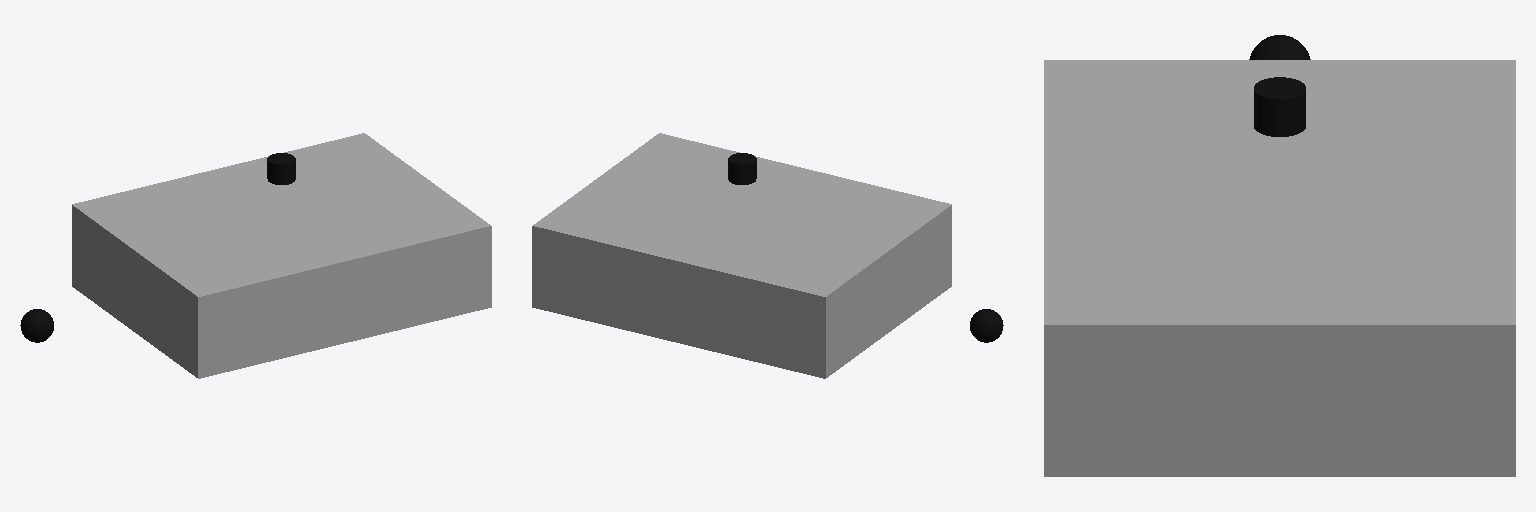
The robot description file, URDF, robot "diff_robot_with_platform":
<?xml version="1.0"?>
<robot name="diff_robot_with_platform" xmlns:xacro="http://www.ros.org/wiki/xacro">

  <!-- ===== Basic materials (optional) ===== -->
  <material name="Gray"><color rgba="0.7 0.7 0.7 1.0"/></material>
  <material name="Black"><color rgba="0.1 0.1 0.1 1.0"/></material>
  <material name="Blue"><color rgba="0.1 0.3 0.9 1.0"/></material>

  <!-- ===== Base link (chassis) ===== -->
  <link name="base_link">
    <inertial>
      <origin xyz="0 0 0" rpy="0 0 0"/>
      <mass value="15.0"/>
      <inertia ixx="0.8" ixy="0.0" ixz="0.0" iyy="0.8" iyz="0.0" izz="0.8"/>
    </inertial>
    <visual>
      <origin xyz="0 0 0.08" rpy="0 0 0"/>
      <geometry>
        <!-- Basic chassis box: LxWxH = 0.6 x 0.45 x 0.16 -->
        <box size="0.6 0.45 0.16"/>
      </geometry>
      <material name="Gray"/>
    </visual>
    <collision>
      <origin xyz="0 0 0.08" rpy="0 0 0"/>
      <geometry>
        <box size="0.6 0.45 0.16"/>
      </geometry>
    </collision>
  </link>

  <!-- ===== Wheels (differential) ===== -->
  <!-- Parameters -->
  <!-- Wheel separation: distance between wheel centers -->
  <!-- Wheel radius: radius of the wheel -->
  <!-- Adjust these if your chassis is different -->
  <!-- Using x-forward, y-left, z-up coordinate convention -->
  <!-- Wheels rotate about the Y-axis -->
  <!-- Left wheel -->
  <link name="left_wheel_link">
    <inertial>
      <origin xyz="0 0 0" rpy="0 0 0"/>
      <mass value="1.0"/>
      <inertia ixx="0.02" ixy="0.0" ixz="0.0" iyy="0.02" iyz="0.0" izz="0.02"/>
    </inertial>
    <visual>
      <origin xyz="0 0 0" rpy="1.5707963 0 0"/>
      <geometry>
        <cylinder radius="0.06" length="0.04"/>
      </geometry>
      <material name="Black"/>
    </visual>
    <collision>
      <origin xyz="0 0 0" rpy="1.5707963 0 0"/>
      <geometry>
        <cylinder radius="0.06" length="0.04"/>
      </geometry>
    </collision>
  </link>

  <joint name="left_wheel_joint" type="continuous">
    <!-- Place left wheel at +Y (left side), Z at wheel radius -->
    <origin xyz="0 0.20 0.06" rpy="0 0 0"/>
    <parent link="base_link"/>
    <child link="left_wheel_link"/>
    <axis xyz="0 1 0"/>
    <limit velocity="100.0"/>
  </joint>

  <!-- Right wheel -->
  <link name="right_wheel_link">
    <inertial>
      <origin xyz="0 0 0" rpy="0 0 0"/>
      <mass value="1.0"/>
      <inertia ixx="0.02" ixy="0.0" ixz="0.0" iyy="0.02" iyz="0.0" izz="0.02"/>
    </inertial>
    <visual>
      <origin xyz="0 0 0" rpy="1.5707963 0 0"/>
      <geometry>
        <cylinder radius="0.06" length="0.04"/>
      </geometry>
      <material name="Black"/>
    </visual>
    <collision>
      <origin xyz="0 0 0" rpy="1.5707963 0 0"/>
      <geometry>
        <cylinder radius="0.06" length="0.04"/>
      </geometry>
    </collision>
  </link>

  <joint name="right_wheel_joint" type="continuous">
    <!-- Place right wheel at -Y (right side), Z at wheel radius -->
    <origin xyz="0 -0.20 0.06" rpy="0 0 0"/>
    <parent link="base_link"/>
    <child link="right_wheel_link"/>
    <axis xyz="0 1 0"/>
    <limit velocity="100.0"/>
  </joint>

  <!-- ===== Castor (optional) to stabilize – simple sphere contact ===== -->
  <link name="caster_link">
    <inertial>
      <origin xyz="0 0 0" rpy="0 0 0"/>
      <mass value="0.2"/>
      <inertia ixx="0.001" ixy="0.0" ixz="0.0" iyy="0.001" iyz="0.0" izz="0.001"/>
    </inertial>
    <visual>
      <origin xyz="-0.25 0 0.03" rpy="0 0 0"/>
      <geometry><sphere radius="0.03"/></geometry>
      <material name="Black"/>
    </visual>
    <collision>
      <origin xyz="-0.25 0 0.03" rpy="0 0 0"/>
      <geometry><sphere radius="0.03"/></geometry>
    </collision>
  </link>
  <joint name="caster_joint" type="fixed">
    <origin xyz="-0.25 0 0.03" rpy="0 0 0"/>
    <parent link="base_link"/>
    <child link="caster_link"/>
  </joint>

  <!-- ===== Raised platform (fixed/static to robot) ===== -->
  <!-- This replaces any previous 'lift' joint: we fix it and lift by +Z -->
  <link name="platform_link">
    <inertial>
      <origin xyz="0 0 0" rpy="0 0 0"/>
      <mass value="3.0"/>
      <inertia ixx="0.05" ixy="0.0" ixz="0.0" iyy="0.05" iyz="0.0" izz="0.05"/>
    </inertial>
    <visual>
      <!-- Adjust scale and origin to fit your mesh -->
      <origin xyz="0 0 0" rpy="0 0 0"/>
      <geometry>
        <mesh filename="model://ackermann_logistic_robot/meshes/platform.dae" scale="1 1 1"/>
      </geometry>
      <material name="Blue"/>
    </visual>
    <collision>
      <origin xyz="0 0 0" rpy="0 0 0"/>
      <geometry>
        <!-- If you have a collision mesh, use it here; otherwise approximate -->
        <box size="0.6 0.45 0.05"/>
      </geometry>
    </collision>
  </link>

  <joint name="platform_fixed_joint" type="fixed">
    <!-- Raise the platform a little on +Z so LiDAR can sit in the middle -->
    <!-- TUNE THIS HEIGHT: 0.20 means 20 cm above base_link -->
    <origin xyz="0 0 0.20" rpy="0 0 0"/>
    <parent link="base_link"/>
    <child link="platform_link"/>
  </joint>

  <!-- ===== LiDAR mount placeholder (center of platform) ===== -->
  <!-- You can attach your lidar sensor/plugin to this link later -->
  <link name="lidar_mount_link">
    <inertial>
      <origin xyz="0 0 0" rpy="0 0 0"/>
      <mass value="0.1"/>
      <inertia ixx="1e-4" ixy="0.0" ixz="0.0" iyy="1e-4" iyz="0.0" izz="1e-4"/>
    </inertial>
    <visual>
      <!-- Small post to visualize mount -->
      <origin xyz="0 0 0.02" rpy="0 0 0"/>
      <geometry>
        <cylinder radius="0.025" length="0.04"/>
      </geometry>
      <material name="Black"/>
    </visual>
    <collision>
      <origin xyz="0 0 0.02" rpy="0 0 0"/>
      <geometry>
        <cylinder radius="0.025" length="0.04"/>
      </geometry>
    </collision>
  </link>

  <joint name="lidar_mount_fixed" type="fixed">
    <!-- Put it at the center of platform_link top surface -->
    <origin xyz="0 0 0.03" rpy="0 0 0"/>
    <parent link="platform_link"/>
    <child link="lidar_mount_link"/>
  </joint>

  <!-- ===== Gazebo Classic plugins & properties ===== -->
  <!-- Differential drive plugin (ROS 2) -->
  <gazebo>
    <plugin name="diff_drive" filename="libgazebo_ros_diff_drive.so">
      <ros>
        <namespace>/</namespace>
        <remapping>cmd_vel:=cmd_vel</remapping>
        <remapping>odom:=odom</remapping>
      </ros>
      <update_rate>100.0</update_rate>

      <left_joint>left_wheel_joint</left_joint>
      <right_joint>right_wheel_joint</right_joint>

      <!-- Match these to your joint origins above -->
      <wheel_separation>0.40</wheel_separation>
      <wheel_radius>0.06</wheel_radius>

      <odom_publisher>true</odom_publisher>
      <publish_odom>true</publish_odom>
      <publish_odom_tf>true</publish_odom_tf>
      <odometry_frame>odom</odometry_frame>
      <robot_base_frame>base_link</robot_base_frame>

      <cmd_vel_timeout>0.5</cmd_vel_timeout>
      <always_on>true</always_on>
      <legacy_mode>false</legacy_mode>
    </plugin>
  </gazebo>

  <!-- Tweak friction/contacts for wheels -->
  <gazebo reference="left_wheel_link">
    <mu1>1.0</mu1>
    <mu2>1.0</mu2>
    <kp>1e5</kp>
    <kd>1.0</kd>
    <fdir1>1 0 0</fdir1>
  </gazebo>
  <gazebo reference="right_wheel_link">
    <mu1>1.0</mu1>
    <mu2>1.0</mu2>
    <kp>1e5</kp>
    <kd>1.0</kd>
    <fdir1>1 0 0</fdir1>
  </gazebo>

  <!-- Optional visual tweaks -->
  <gazebo reference="platform_link">
    <material>Gazebo/Blue</material>
  </gazebo>
  <gazebo reference="base_link">
    <material>Gazebo/Grey</material>
  </gazebo>

  <!-- ===== (Optional) LiDAR sensor example (commented). Uncomment to use. =====
  <gazebo reference="lidar_mount_link">
    <sensor name="lidar" type="ray">
      <always_on>true</always_on>
      <visualize>true</visualize>
      <update_rate>20</update_rate>
      <ray>
        <scan>
          <horizontal>
            <samples>720</samples>
            <resolution>1</resolution>
            <min_angle>-3.14159</min_angle>
            <max_angle> 3.14159</max_angle>
          </horizontal>
        </scan>
        <range>
          <min>0.12</min>
          <max>30.0</max>
          <resolution>0.01</resolution>
        </range>
      </ray>
      <plugin name="lidar_plugin" filename="libgazebo_ros_ray_sensor.so">
        <ros>
          <namespace>/</namespace>
          <remapping>~/out:=scan</remapping>
        </ros>
        <frame_name>lidar_mount_link</frame_name>
      </plugin>
    </sensor>
  </gazebo>
  ===== -->

</robot>

--- What the picture shows (computed from the rendered views, not written in the file) ---
Views: 3 orthographic renders of the robot side by side, from view 1: azimuth 30°, elevation 25°; view 2: azimuth 150°, elevation 25°; view 3: azimuth 270°, elevation 25°.
Robot: diff_robot_with_platform — 6 links, 5 joints (2 continuous, 3 fixed); root link base_link; default pose: every joint at zero.
Visible links, largest first — view 1: base_link, caster_link, lidar_mount_link; view 2: base_link, caster_link, lidar_mount_link; view 3: base_link, lidar_mount_link, caster_link.
Link boxes in pixels (x1=…): base_link: x1=72, y1=133, x2=491, y2=378; caster_link: x1=20, y1=309, x2=53, y2=342; lidar_mount_link: x1=267, y1=153, x2=295, y2=184; base_link: x1=532, y1=133, x2=951, y2=378; caster_link: x1=970, y1=309, x2=1003, y2=342; lidar_mount_link: x1=728, y1=153, x2=756, y2=184; base_link: x1=1044, y1=60, x2=1515, y2=476; lidar_mount_link: x1=1254, y1=77, x2=1305, y2=136; caster_link: x1=1249, y1=35, x2=1310, y2=59.
Bounding box of the posed robot: 0.83 × 0.45 × 0.27 m (x, y, z).
0 mesh visuals loaded from 1 distinct referenced files (none loaded); not drawn: 1 (reference not matched to a file when rendering).